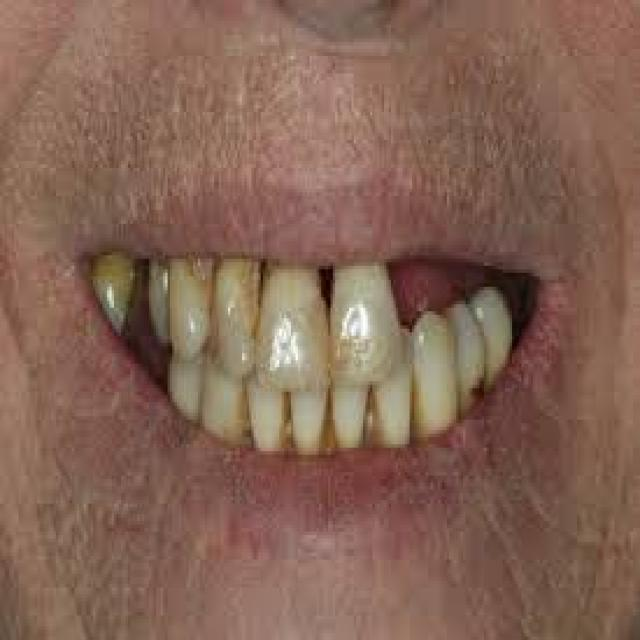tooth: (256, 255, 333, 392), (326, 252, 400, 385), (149, 248, 212, 357), (409, 308, 458, 437), (212, 252, 258, 378), (477, 276, 517, 388), (452, 290, 488, 413), (286, 363, 333, 448), (328, 367, 375, 444), (374, 360, 416, 444), (207, 360, 244, 441), (168, 353, 210, 423), (247, 378, 286, 451)
